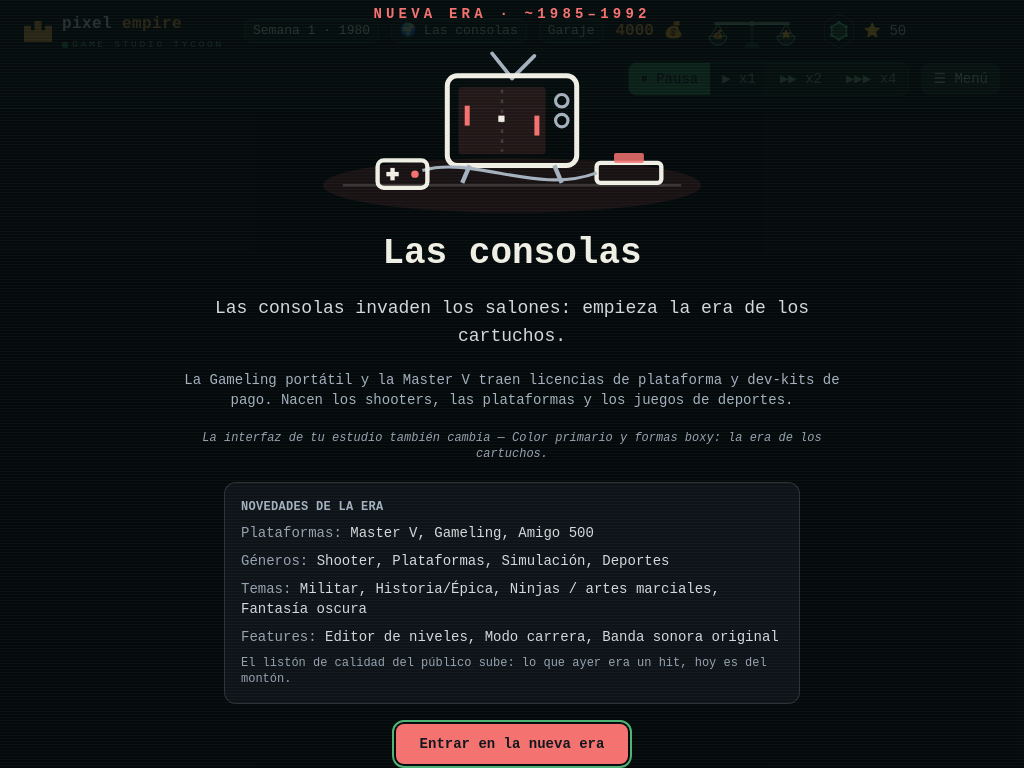
App — la UI solo muestra estado y despacha acciones (docs/08 §6) › el beat de era anuncia sobre la piel vieja y la transforma al entrar (Fase 7E, docs/10 §7.6)
This screenshot has width=1024, height=768.
expect the text "Nueva era · ~1985–1992" is shown: met, box [373,6,651,22]
expect the text "empieza la era de los cartuchos" is shown: met, box [215,298,809,346]
Acto 2: al entrar, el overlay se cierra y la piel se transforma a E2.
Click the button "Entrar en la nueva era".
click(512, 744)  # box [396,724,628,764]
(page scrolled)
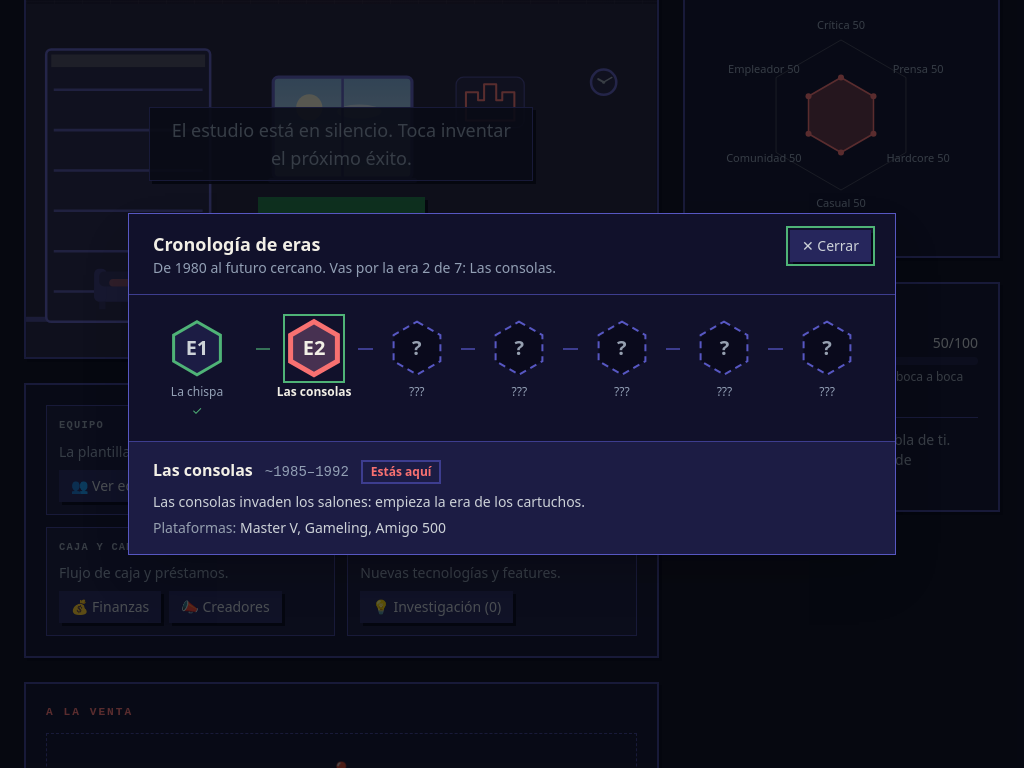
expect the text "Nueva era" is gone: met
